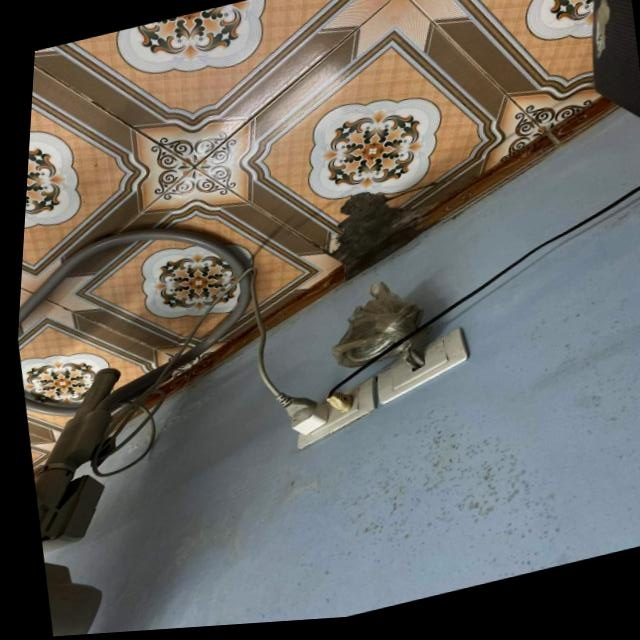outlet: (367, 326, 474, 407), (285, 376, 383, 452)
